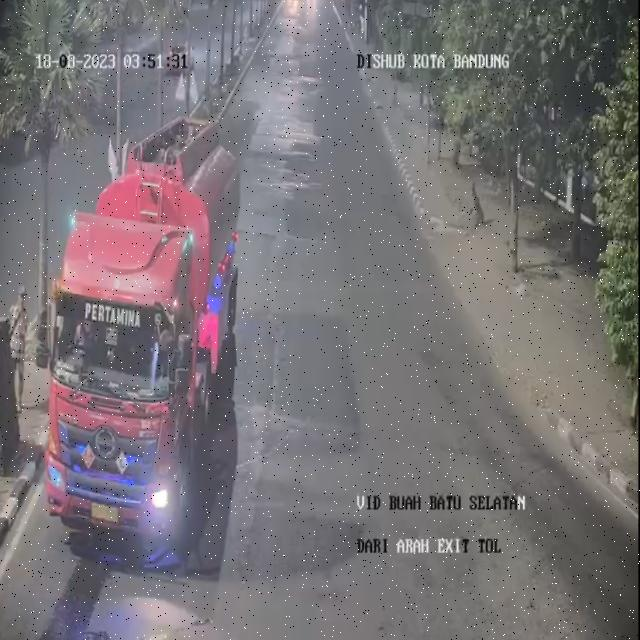truck: (48, 174, 206, 554)
